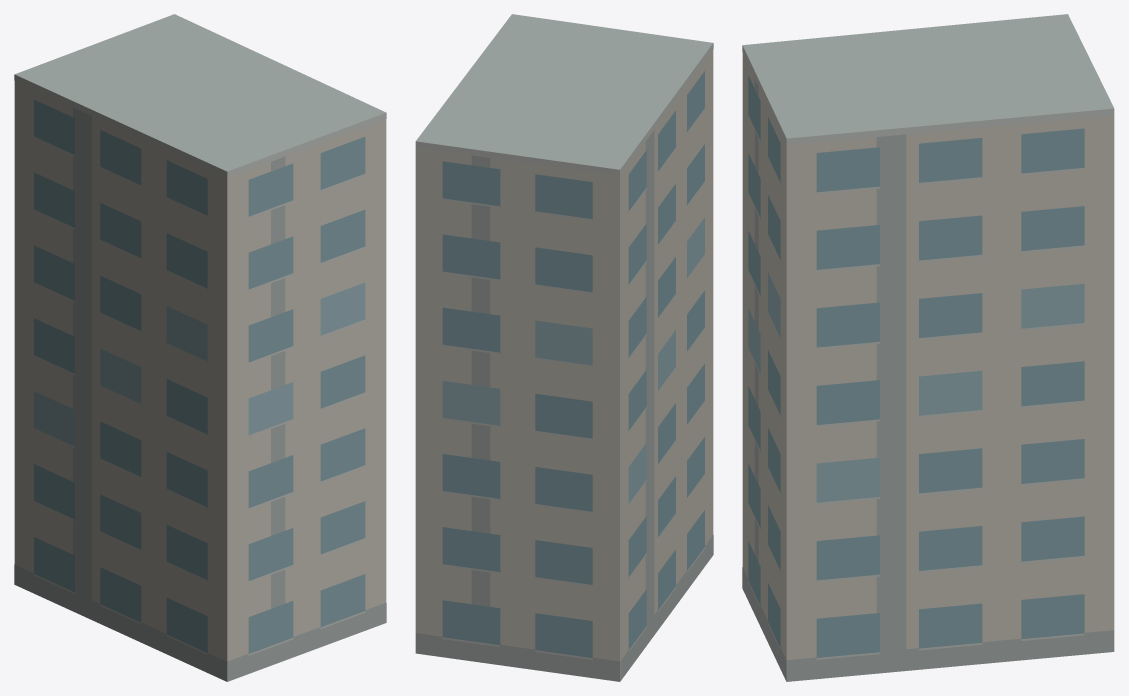
The model's file is survey-upis-32809445.glb.
3 renders of one model, left to right at view 1: azimuth 30°, elevation 25°; view 2: azimuth 150°, elevation 25°; view 3: azimuth 270°, elevation 25°, orthographic. The views are drawn at different scales.
Parts seen in each view (by area): view 1: survey-upis-32809445.tmp; view 2: survey-upis-32809445.tmp; view 3: survey-upis-32809445.tmp.
Part boxes in pixels (<box>): survey-upis-32809445.tmp: <box>14,14,386,681</box>; survey-upis-32809445.tmp: <box>415,14,713,681</box>; survey-upis-32809445.tmp: <box>742,14,1114,681</box>.
Size of the model in its own units: 9.6 by 19.5 by 12.11.
